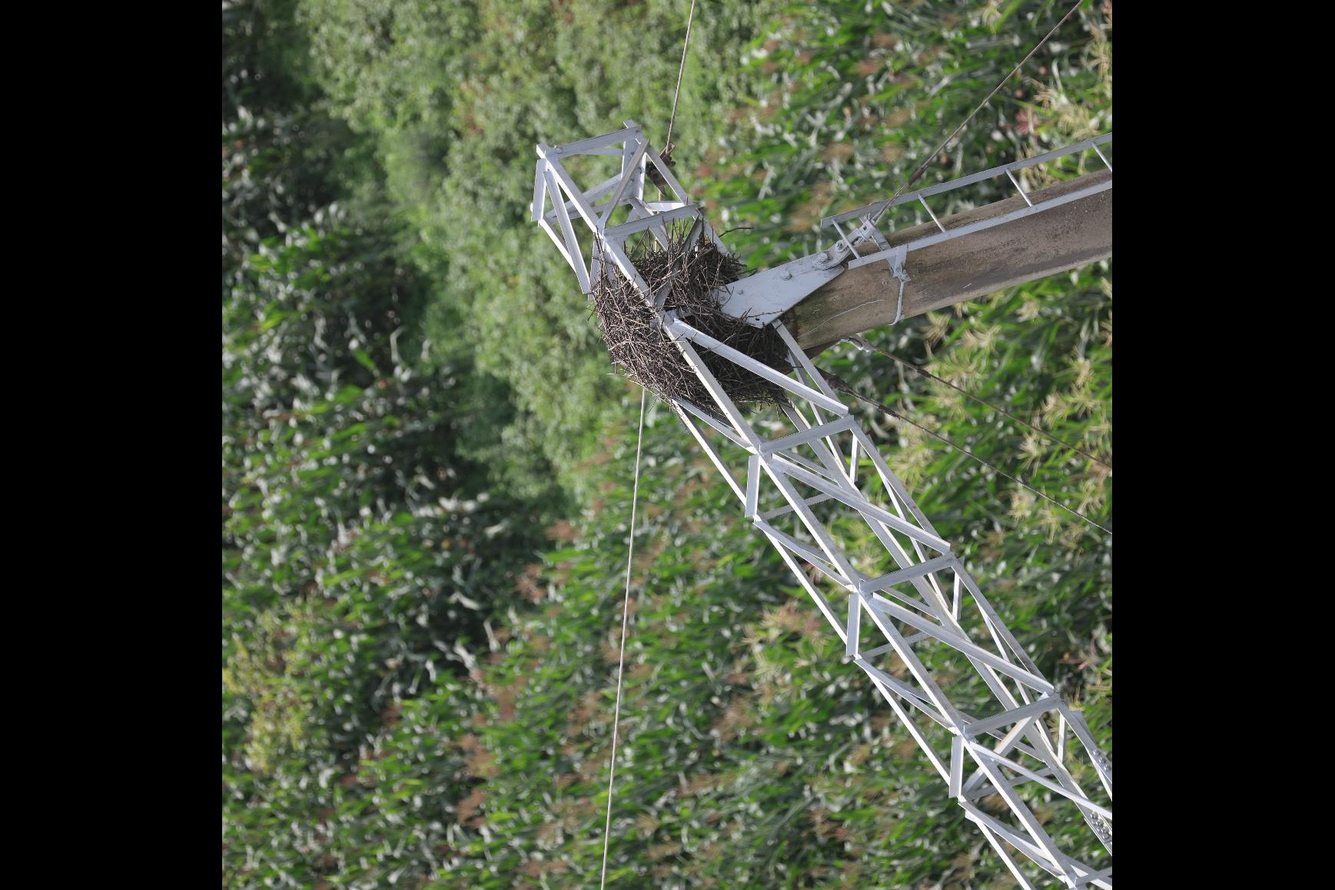nest: (584, 223, 799, 418)
